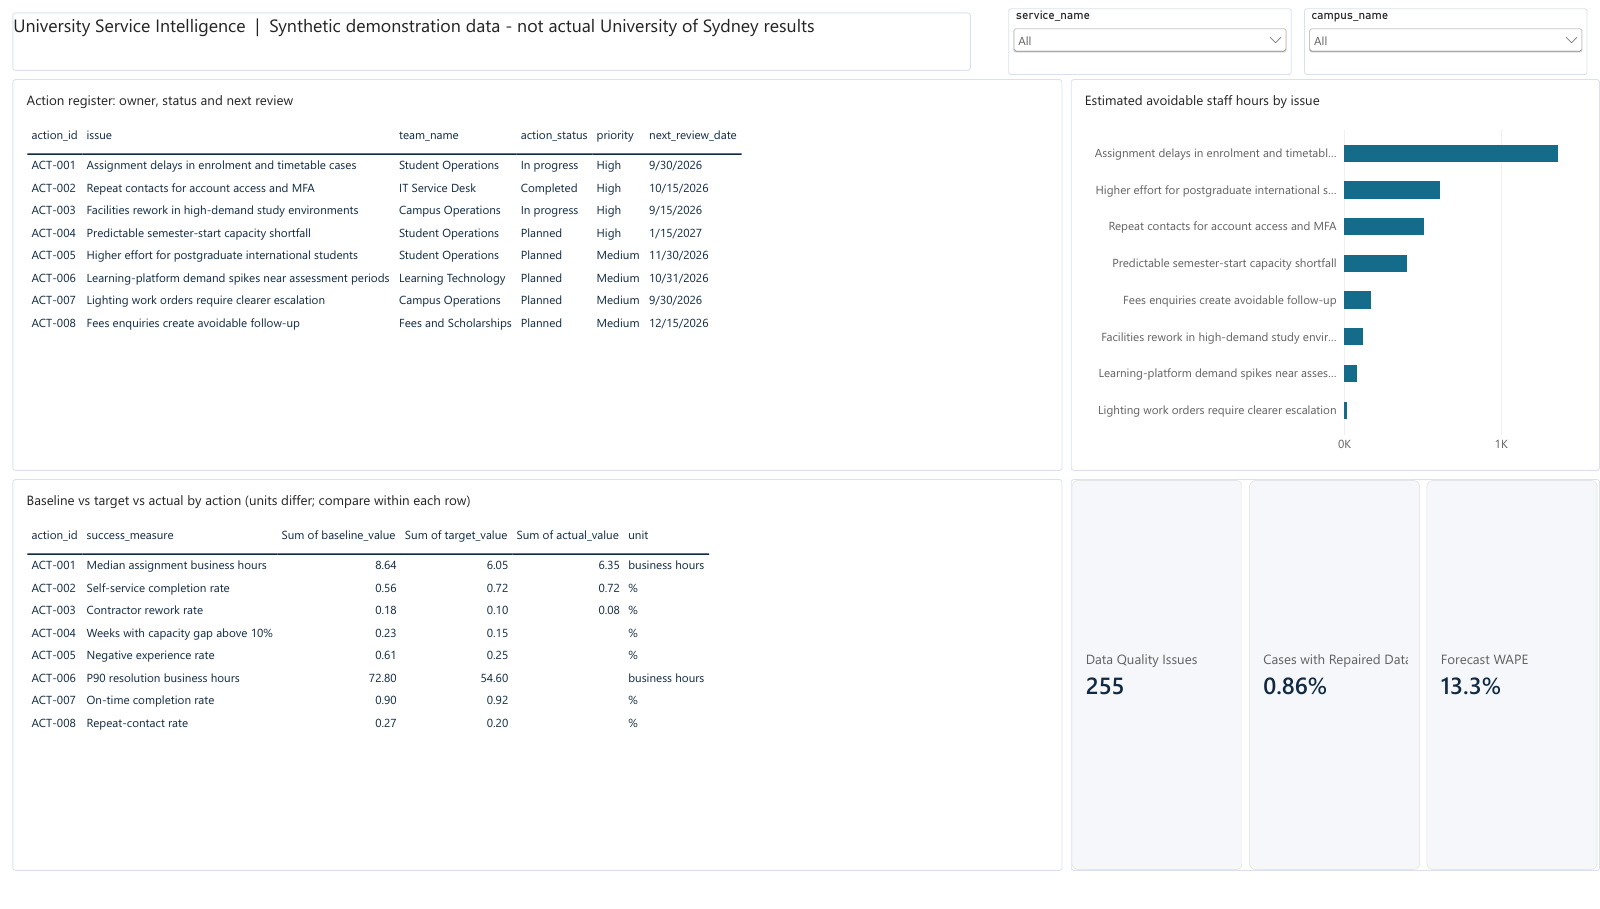

The page's visual inventory and layout, read from the dashboard file:
{"tool":"powerbi","page":{"name":"Actions & Benefits","canvas":[1920,1080],"ordinal":3},"visuals":[{"type":"tableEx","title":"Action register: owner, status and next review","fields":{"Values":["FactActionInsight.action_id","FactActionInsight.issue","DimTeam.team_name","FactActionInsight.action_status","FactActionInsight.priority","FactActionInsight.next_review_date"]},"box":[15,90,1260,470],"z":0},{"type":"tableEx","title":"Baseline vs target vs actual by action (units differ; compare within each row)","fields":{"Values":["FactActionInsight.action_id","FactActionInsight.success_measure","Sum(FactActionInsight.baseline_value)","Sum(FactActionInsight.target_value)","Sum(FactActionInsight.actual_value)","FactActionInsight.unit"]},"box":[15,570,1260,470],"z":1000},{"type":"clusteredBarChart","title":"Estimated avoidable staff hours by issue","fields":{"Category":["FactActionInsight.issue"],"Y":["Sum(FactActionInsight.estimated_avoidable_staff_hours)"]},"box":[1285,90,635,470],"z":2000},{"type":"cardVisual","fields":{"Data":["_Measures.Data Quality Issues","_Measures.Cases with Repaired Data %","_Measures.Forecast WAPE"]},"box":[1285,570,635,470],"z":3000},{"type":"textbox","box":[15,10,1150,70],"z":3001},{"type":"slicer","fields":{"Values":["DimService.service_name"]},"box":[1210,5,340,80],"z":3002},{"type":"slicer","fields":{"Values":["DimCampus.campus_name"]},"box":[1565,5,340,80],"z":3003}]}

Visuals, with their boxes in screenshot pixels (x1, y1, x2, y2), scaled from the page's 1920x1080 canvas onto the 1600x909 screenshot:
"Action register: owner, status and next review" tableEx: (x1=12, y1=76, x2=1062, y2=471)
"Baseline vs target vs actual by action (units differ; compare within each row)" tableEx: (x1=12, y1=480, x2=1062, y2=875)
"Estimated avoidable staff hours by issue" clusteredBarChart: (x1=1071, y1=76, x2=1599, y2=471)
cardVisual - _Measures.Data Quality Issues x _Measures.Cases with Repaired Data %: (x1=1071, y1=480, x2=1599, y2=875)
textbox: (x1=12, y1=8, x2=971, y2=67)
slicer - DimService.service_name: (x1=1008, y1=4, x2=1292, y2=72)
slicer - DimCampus.campus_name: (x1=1304, y1=4, x2=1588, y2=72)
